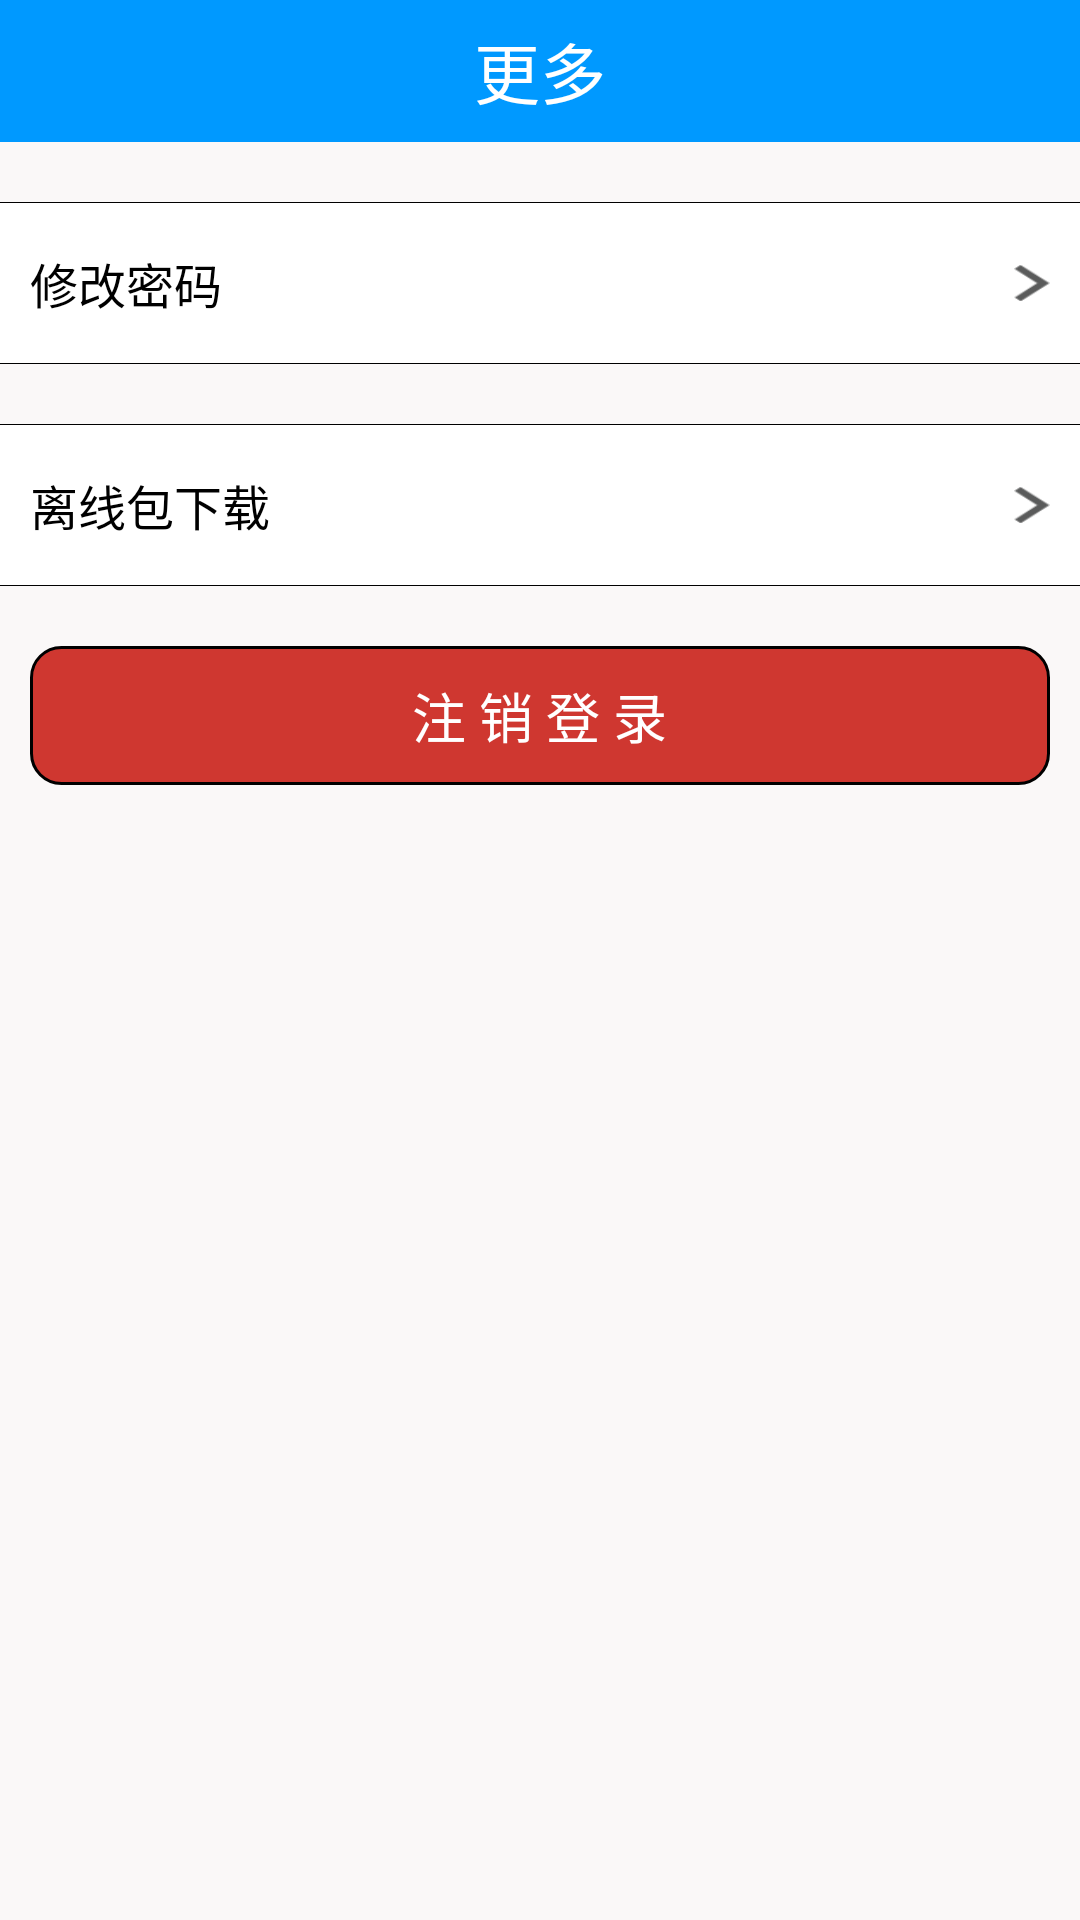

Named icons in this screenshot (1080px×1920px) and their bounding boxes, region(x1, y1, x2, y2):
forwardbtn: region(1014, 265, 1050, 301), region(1014, 487, 1050, 523)
